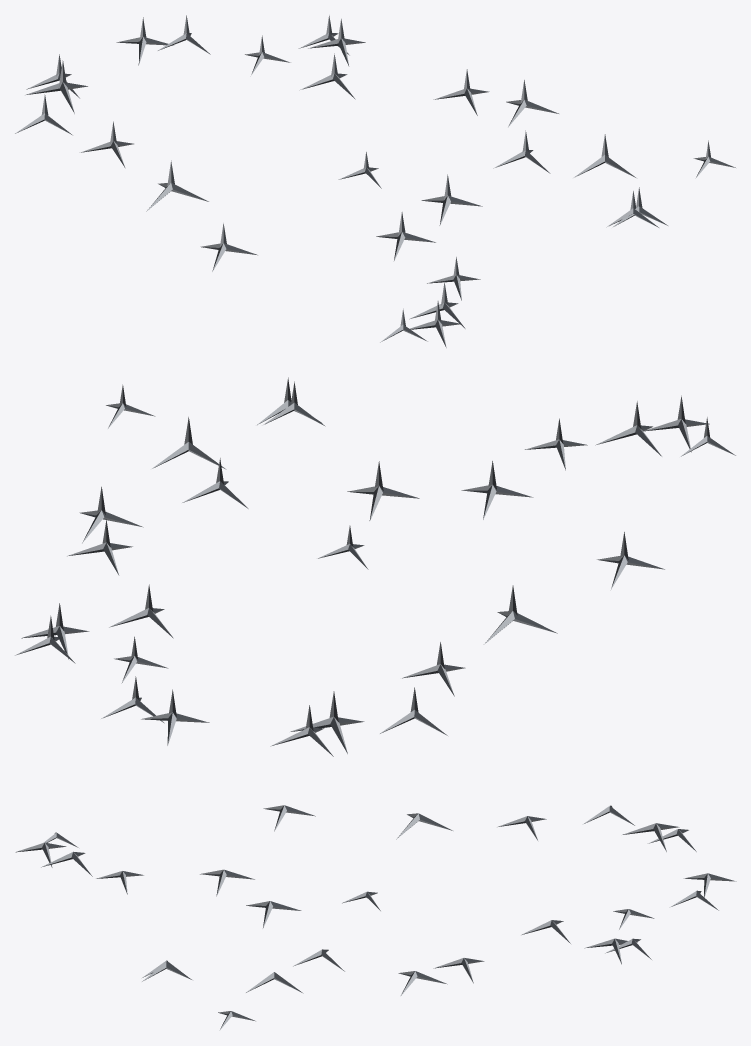
Rendered from caltrops.glb.
The picture shows the model from 3 angles, top to bottom: view 1: azimuth 30°, elevation 25°; view 2: azimuth 150°, elevation 25°; view 3: azimuth 270°, elevation 25°; orthographic projection. The views are drawn at different scales.
Parts seen in each view (by area): view 1: caltrops; view 2: caltrops; view 3: caltrops.
Boxes of the visible parts, x1,y1,x2,y2 form: caltrops: (15, 15, 735, 347); caltrops: (14, 377, 735, 756); caltrops: (15, 805, 736, 1030).
Size of the model in its own units: 1.46 by 0.1082 by 1.98.
Materials: 1 (1 with a texture image).
